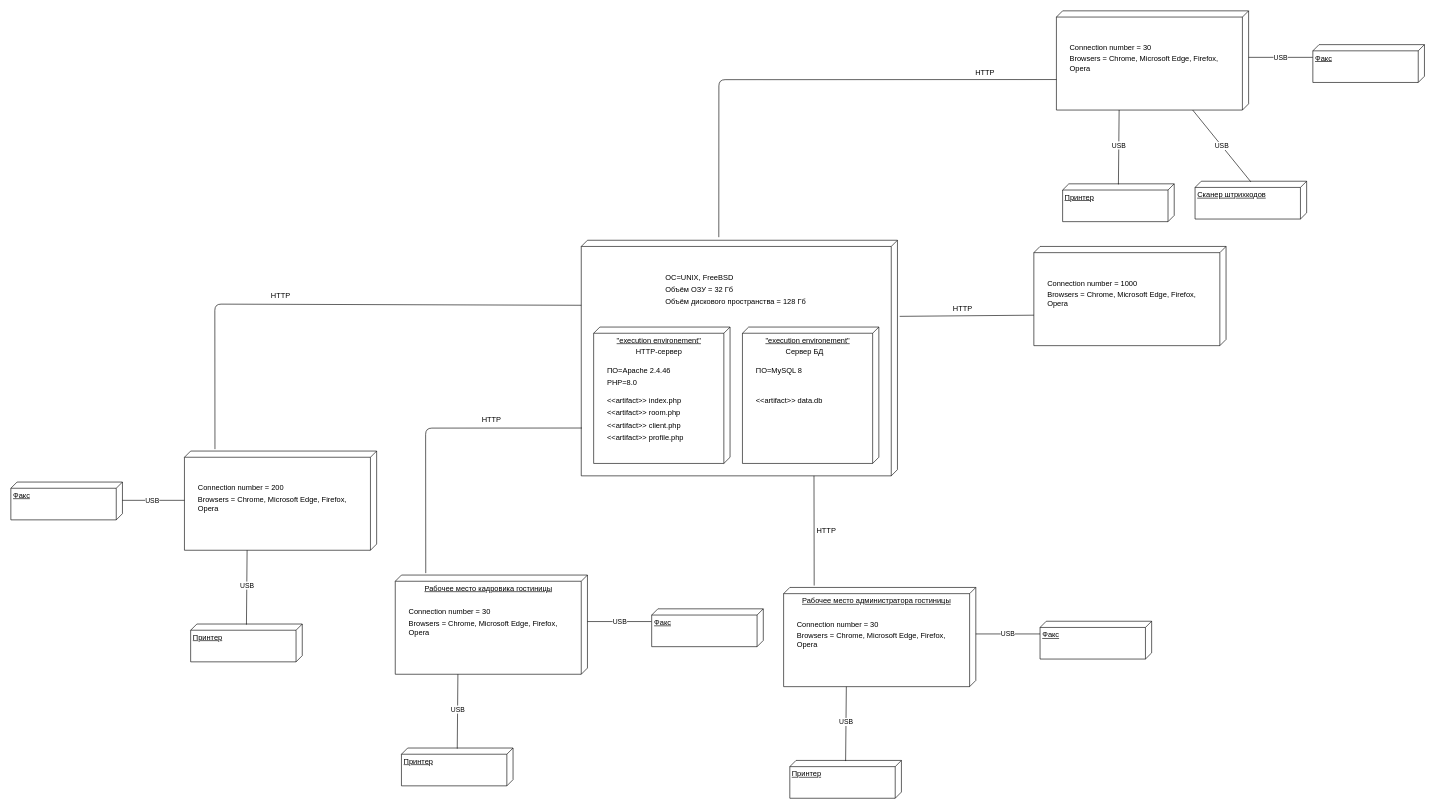
Some shapes in this 1435 by 809 pixel diagram are drawn without their labels. The box of each missing label's shape, as (x1, y1, x2, y2) in pixels:
Рабочее место сотрудника гостиницы: (184, 450, 377, 550)
Рабочее место управляющего гостиницы: (1056, 10, 1249, 110)
Удалённый сервер: (581, 240, 897, 476)
Устройство клиента гостиницы: (1033, 246, 1226, 346)
